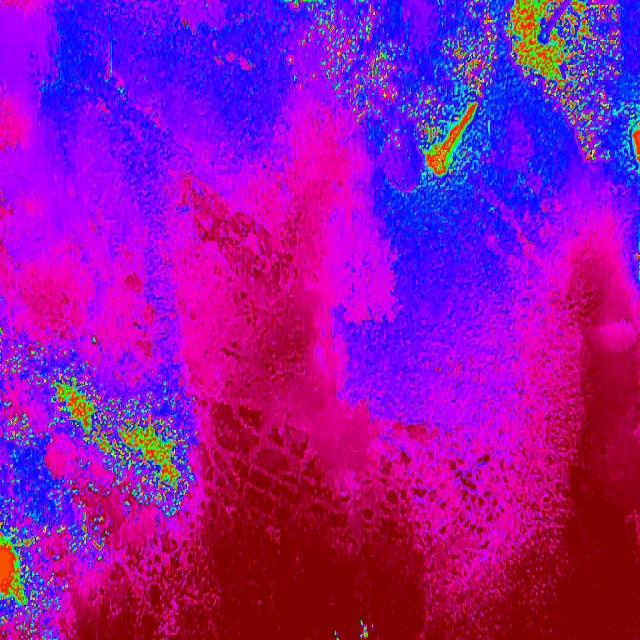fire: (0, 314, 97, 638), (402, 0, 507, 220), (97, 369, 201, 565), (285, 0, 403, 119), (507, 0, 640, 99), (558, 99, 640, 173)
